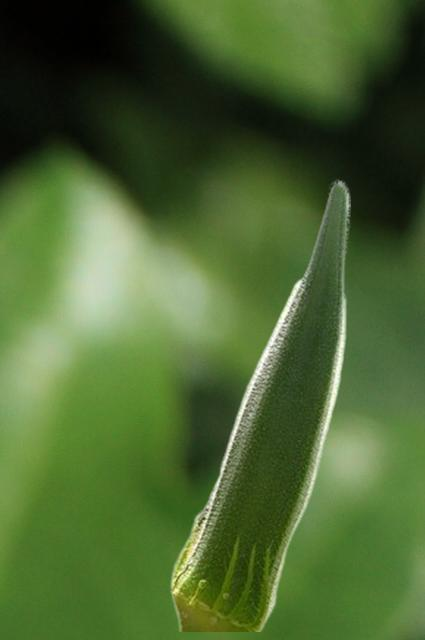okra: (169, 178, 349, 630)
